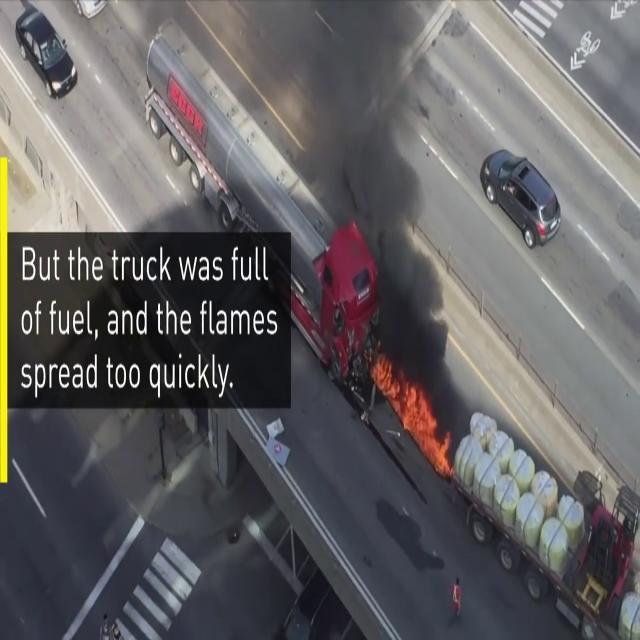Fire: (372, 354, 450, 472)
Smoke: (301, 2, 462, 450)
